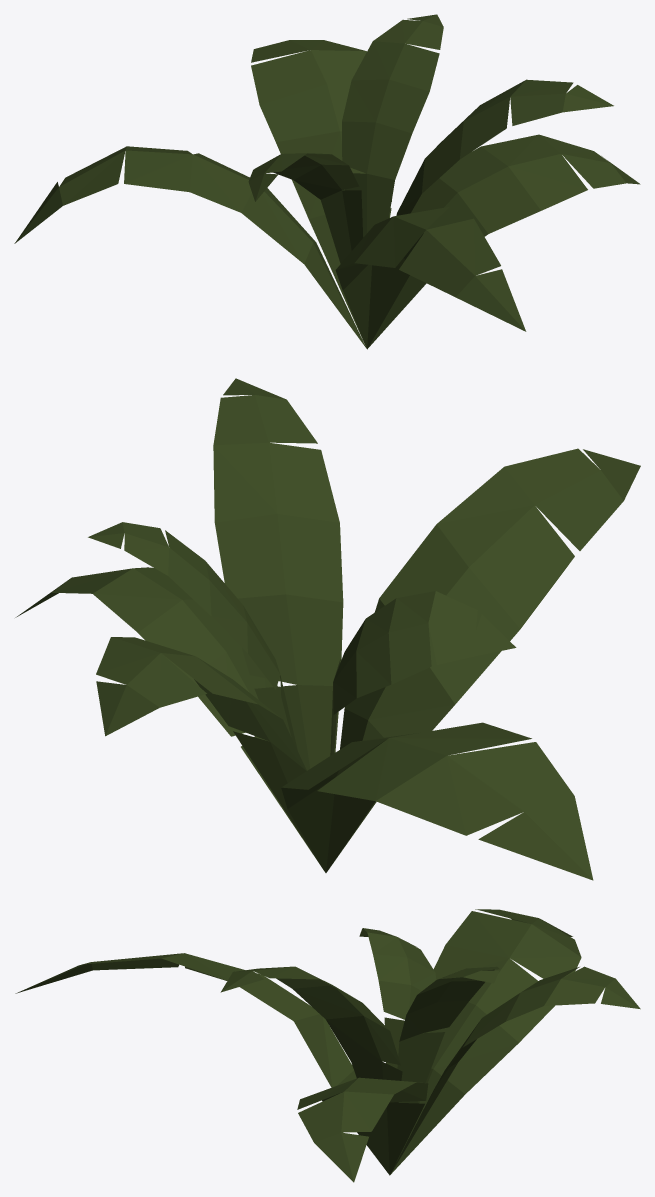
Rendered from Plant_11.fbx.
3 views of the same model, one above another, from view 1: azimuth 30°, elevation 25°; view 2: azimuth 150°, elevation 25°; view 3: azimuth 270°, elevation 25° (orthographic). The views are drawn at different scales.
Visible parts, largest first — view 1: Plant_11; view 2: Plant_11; view 3: Plant_11.
Part boxes in pixels (<box>): Plant_11: <box>14,14,640,349</box>; Plant_11: <box>15,378,640,880</box>; Plant_11: <box>15,909,640,1182</box>.
Size of the model in its own units: 0.6502 by 0.3249 by 0.701.
